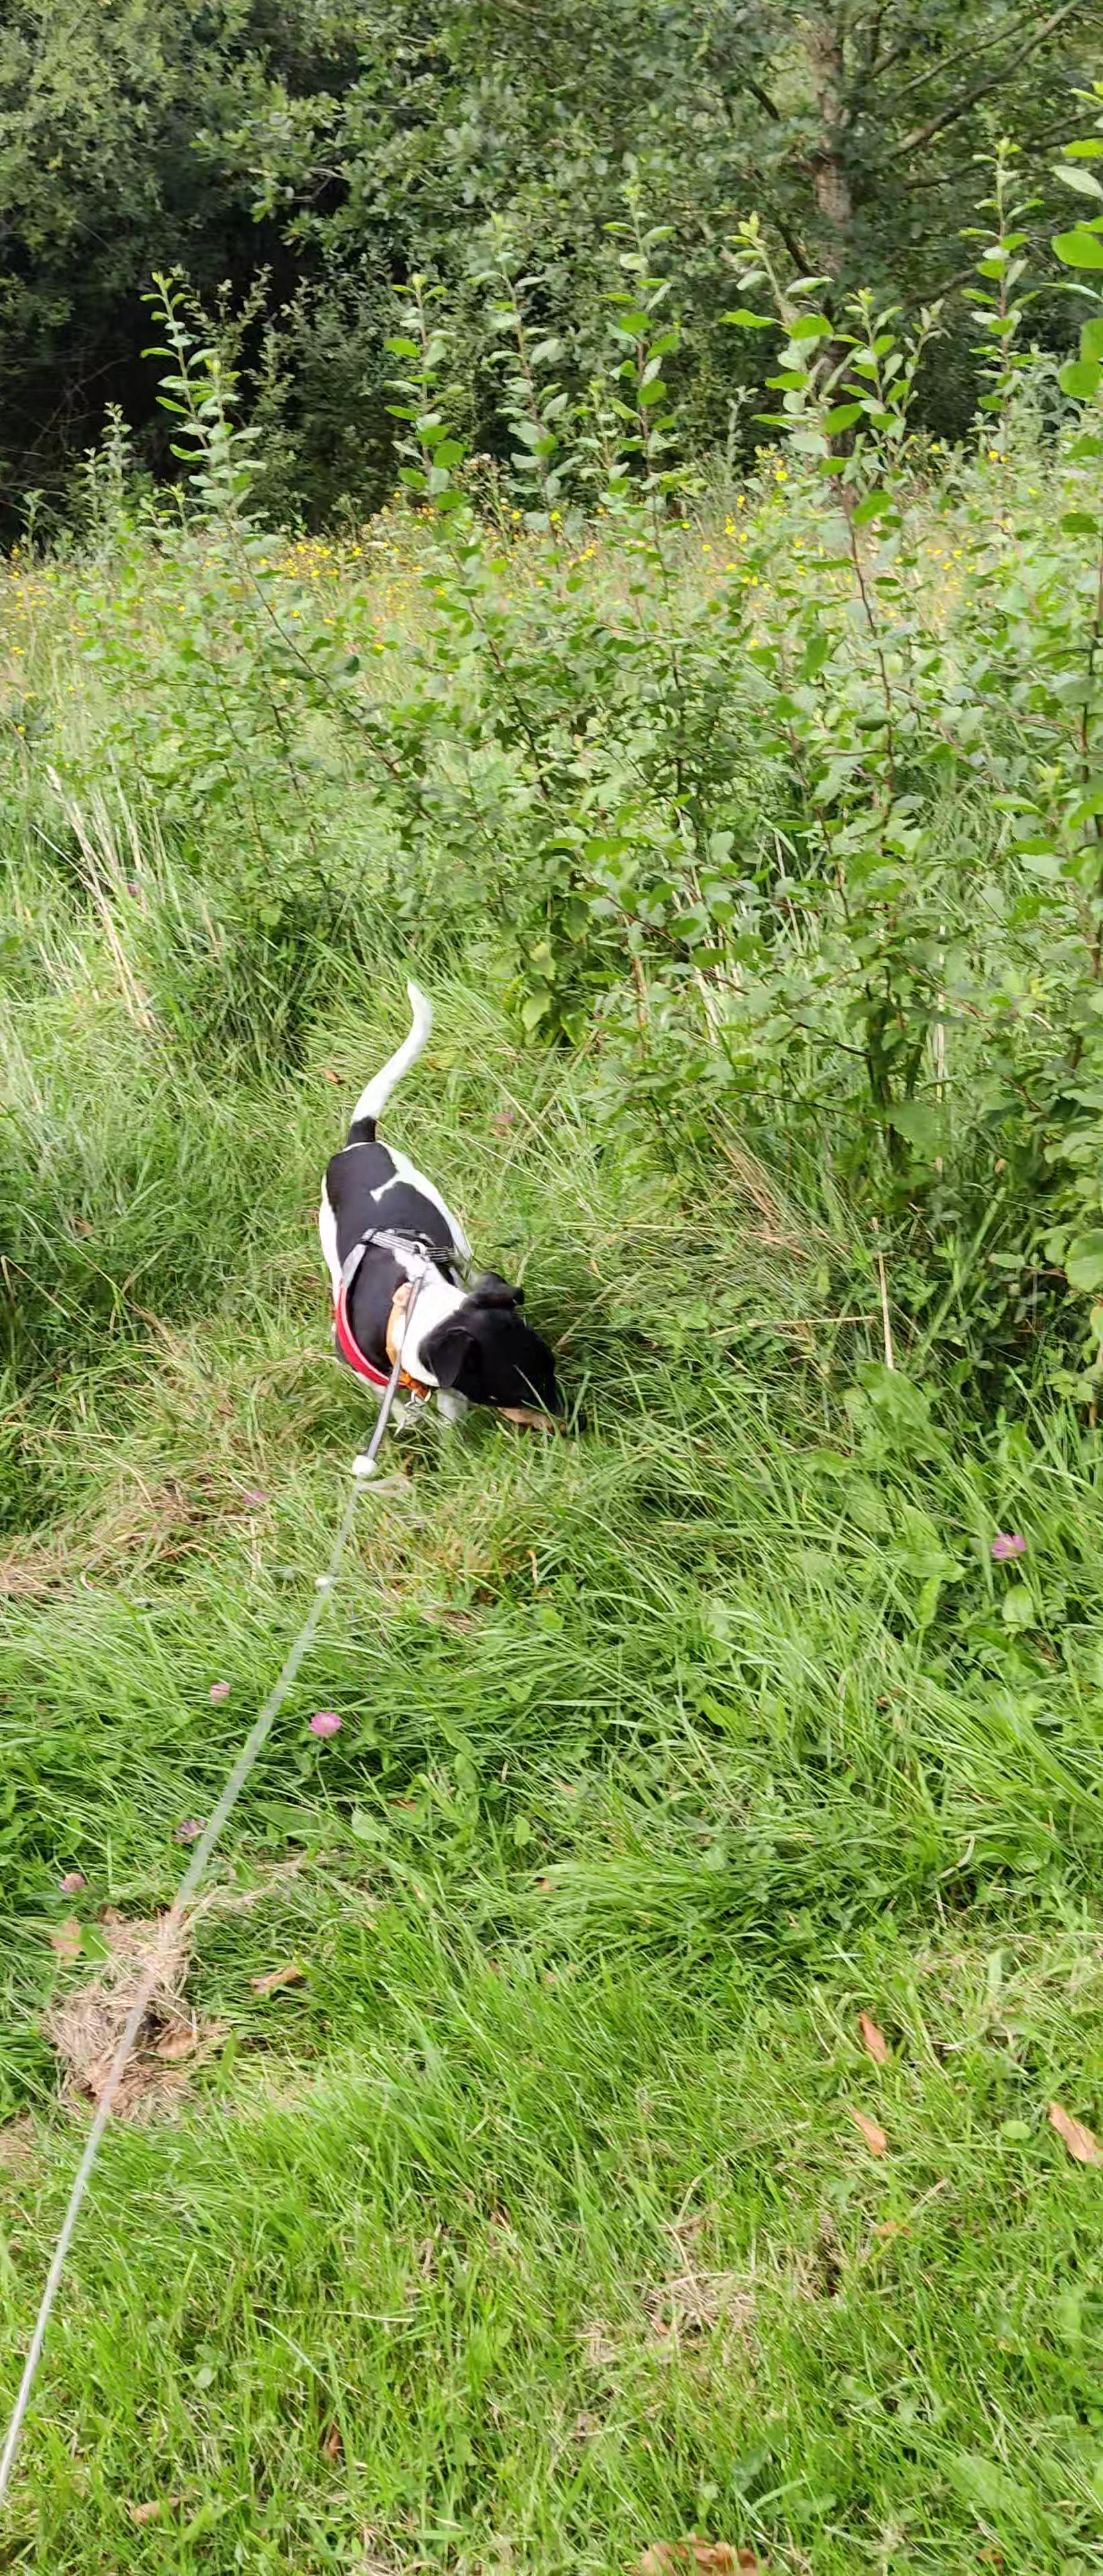Dog: (293, 963, 610, 1469)
